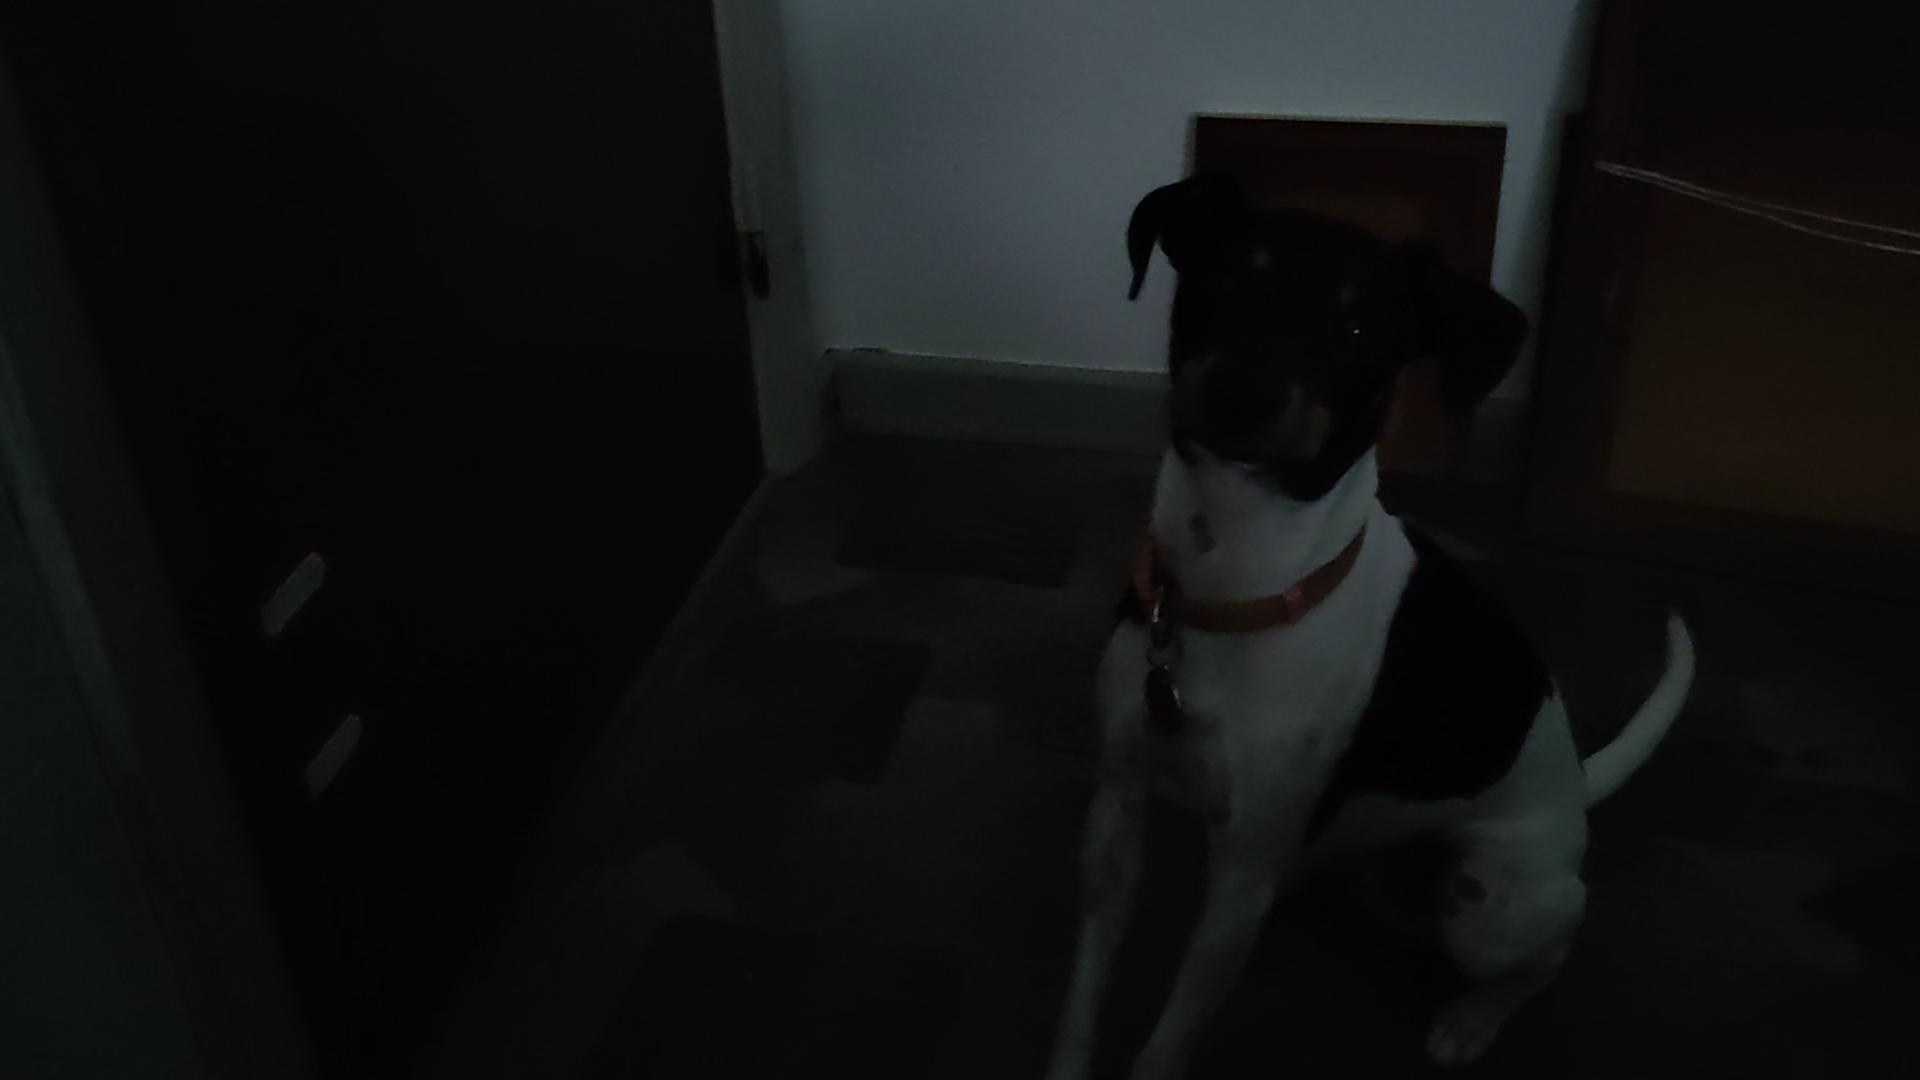Dog: (1021, 141, 1712, 1079)
